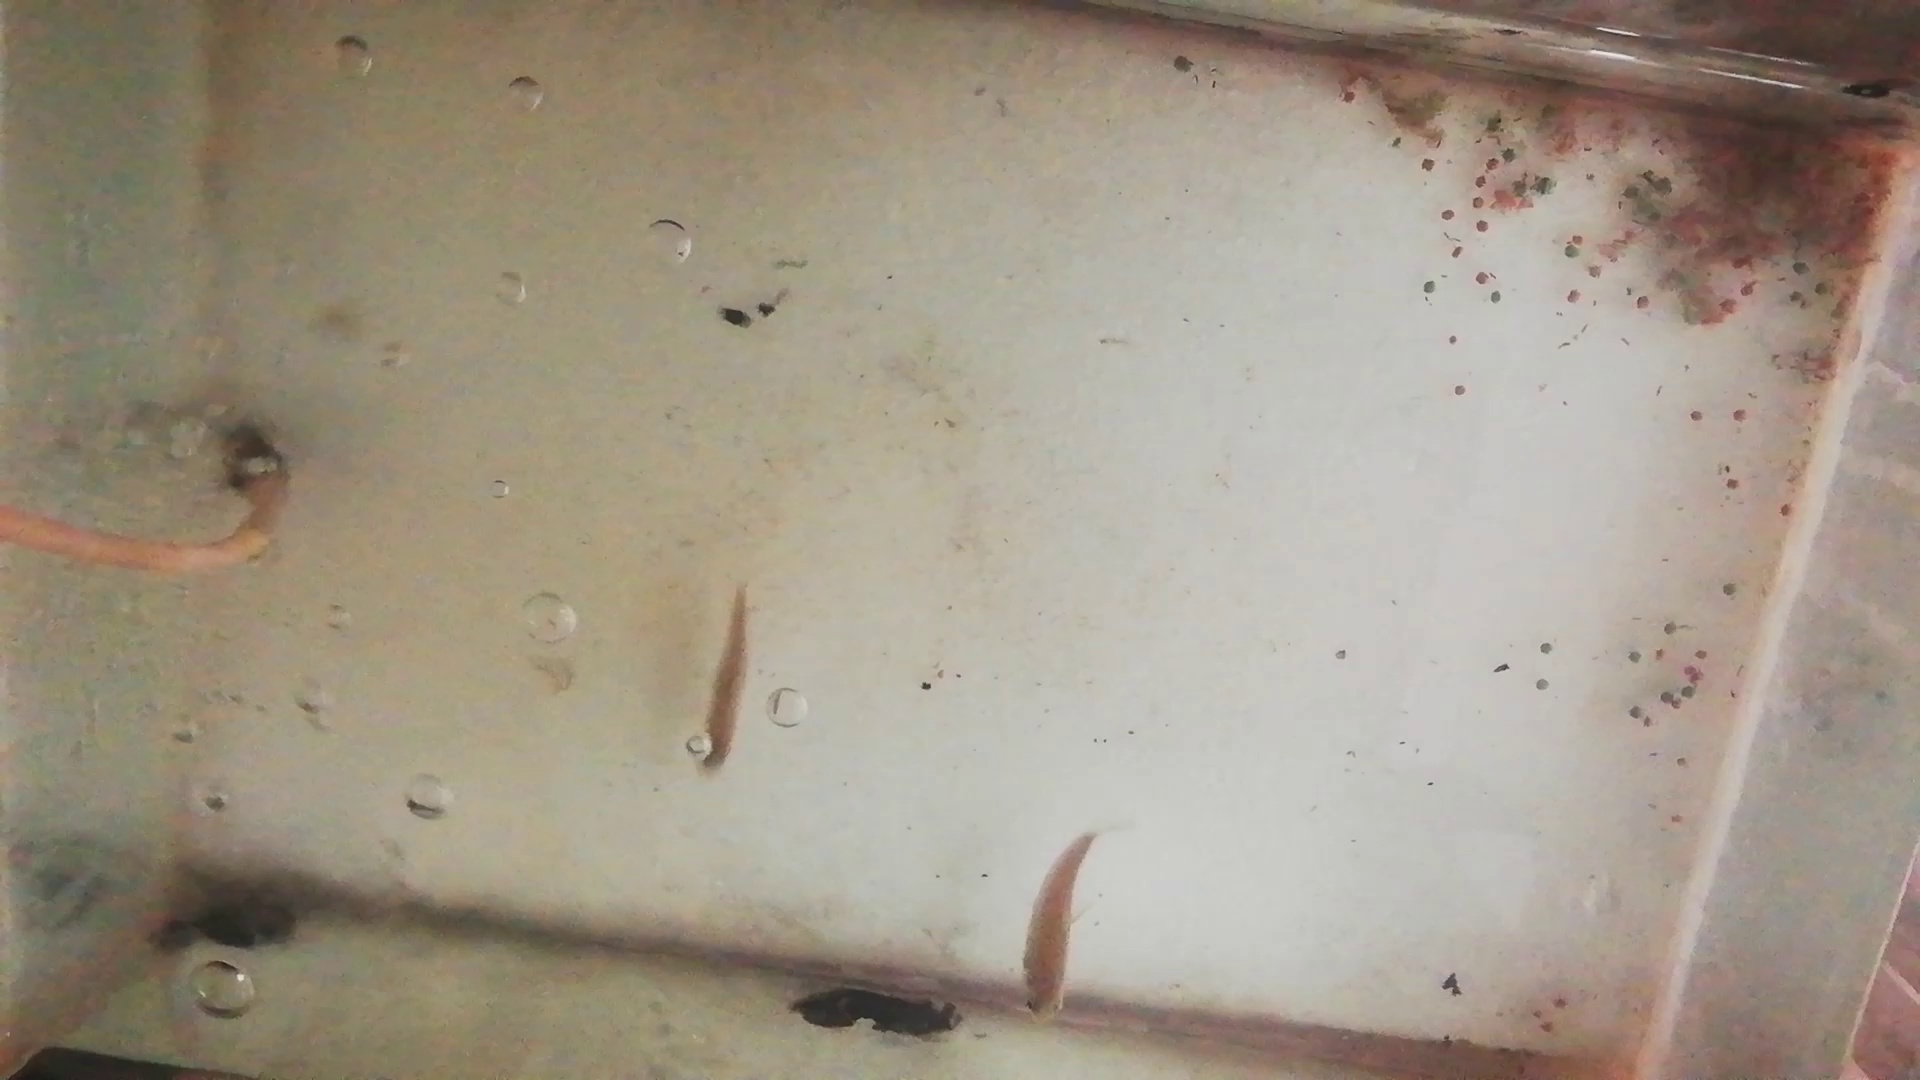fish: (1021, 829, 1089, 1026), (691, 588, 752, 770)
